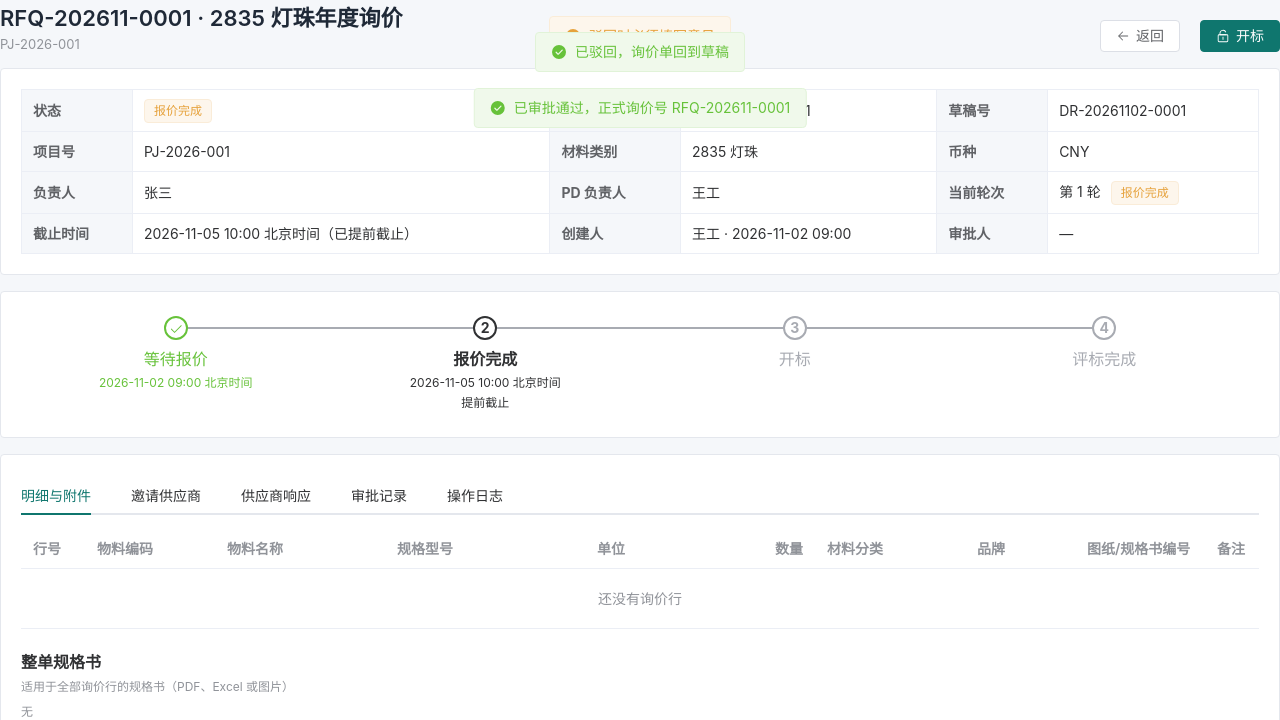
Scenario: InquiryDetailPage › R10-2 R10-3 提前截止后显示进度条和"开标"按钮，确认后开标并切到供应商响应
Check: the element with class "round-progress" shows "报价完成", box top-left (453, 349), bottom-right (517, 369)
Click the button "开标" at (1240, 36), box top-left (1200, 20), bottom-right (1279, 52)
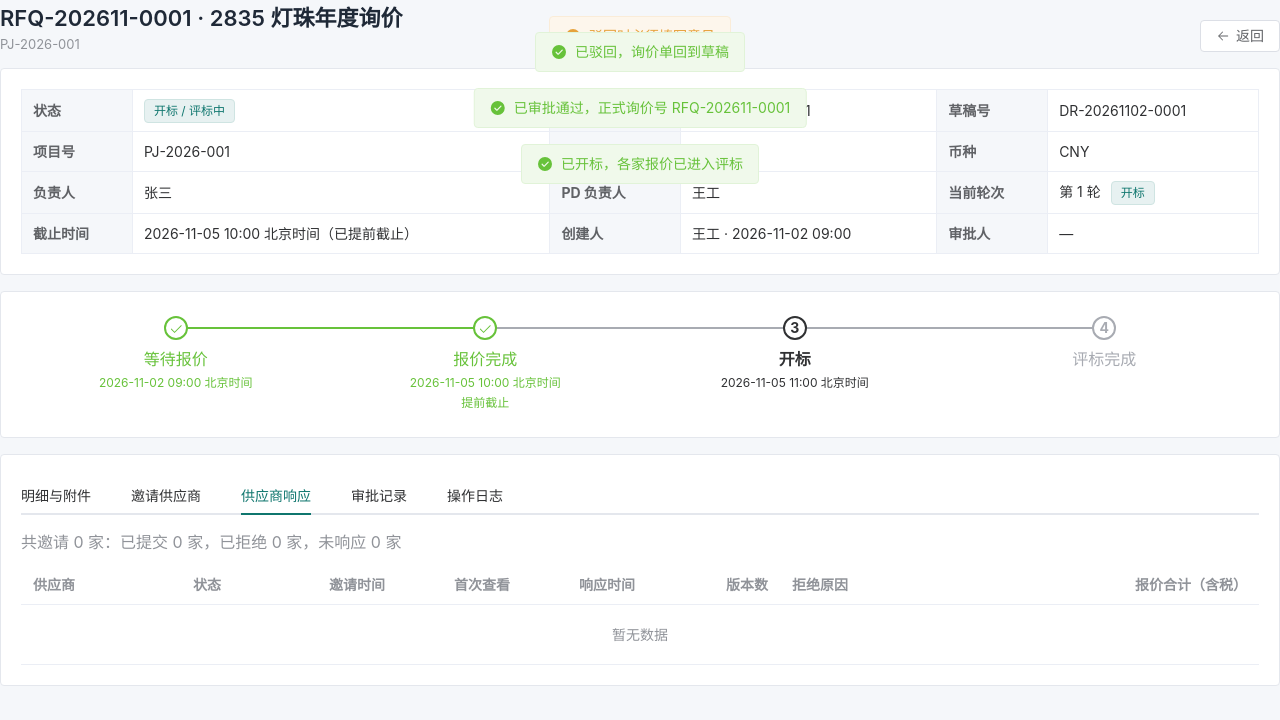
Check: the element with class "round-progress" shows "2026-11-05 11:00 北京时间", box top-left (721, 375), bottom-right (869, 390)
